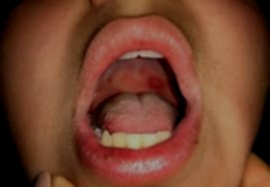Ulcer: (147, 76, 163, 89)
